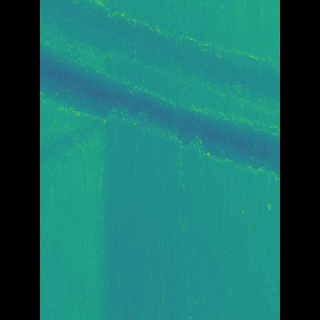Loch: (68, 0, 249, 181)
